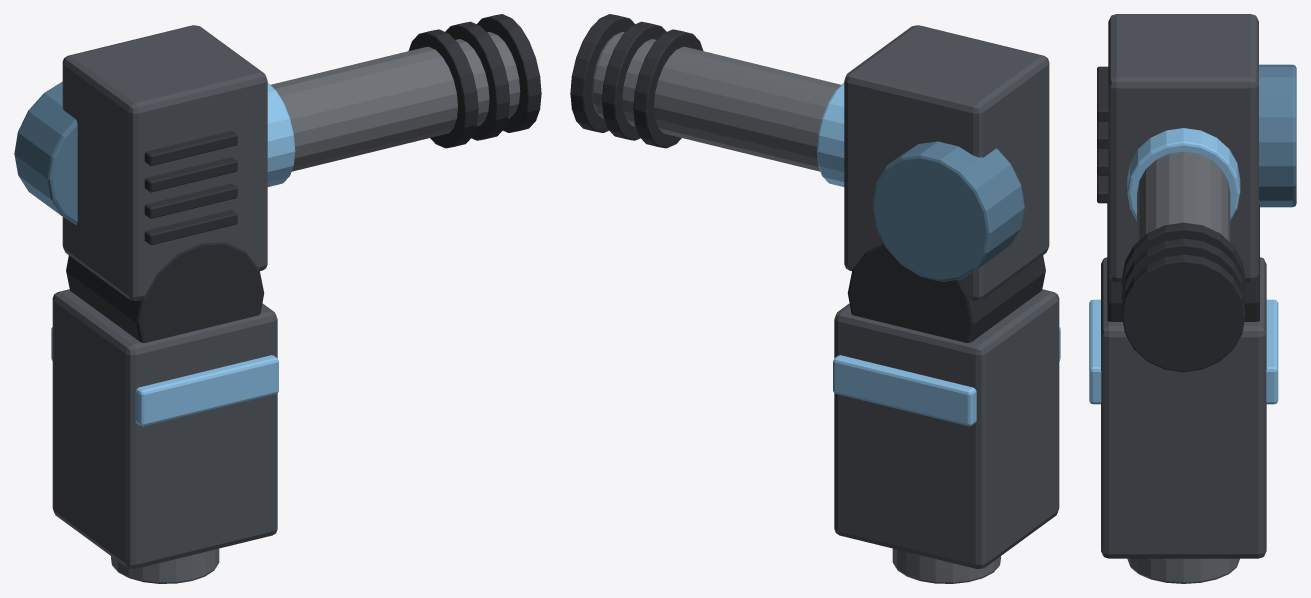
File: module_arm_cannon.fbx
3 renders of one model, left to right at view 1: azimuth 30°, elevation 25°; view 2: azimuth 150°, elevation 25°; view 3: azimuth 270°, elevation 25°, orthographic. The views are drawn at different scales.
Visible parts, largest first — view 1: SM_Module_ArmCannon; view 2: SM_Module_ArmCannon; view 3: SM_Module_ArmCannon.
Boxes of the visible parts, x1,y1,x2,y2 form: SM_Module_ArmCannon: [14, 14, 541, 583]; SM_Module_ArmCannon: [570, 14, 1060, 583]; SM_Module_ArmCannon: [1089, 14, 1296, 583].
Size of what is drawn, in the model's own units: 70.6 by 75.5 by 27.54.
